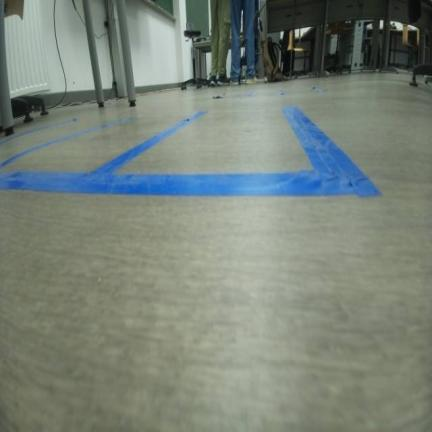place: (70, 106, 382, 194), (1, 110, 207, 195), (0, 112, 135, 172)
